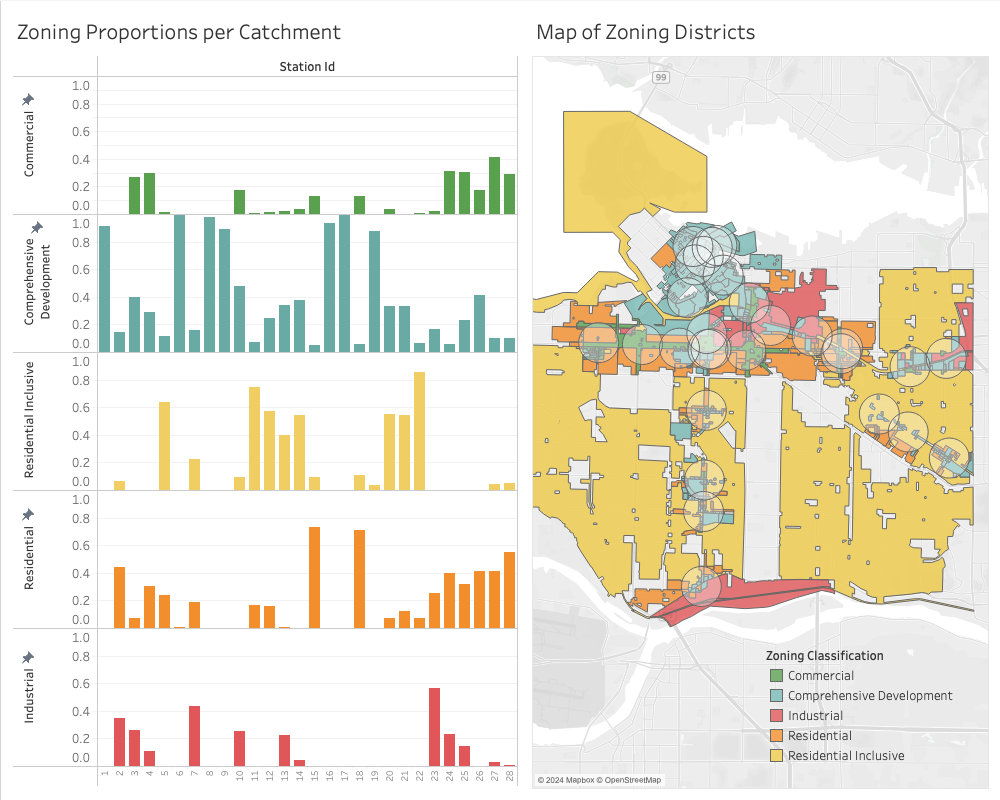

What the dashboard file says about the page in this screenshot:
{"tool":"tableau","page":{"name":"demand/zoning","canvas":[1000,800],"ordinal":8},"visuals":[{"type":"worksheet","title":"zoning/bar","mark":"Automatic","rows":["commercial","comprehensive_development","residential_inclusive","residential","industrial"],"cols":["station_id"],"box":[8,8,519,784]},{"type":"worksheet","title":"zoning/map","mark":"Automatic","box":[527,8,465,784]},{"type":"legend","title":"zoning/map","param":"[federated.09er66110hhkaf1e3lmk41i3ufzg].[none:zoning_classification:nk]","box":[765,646,191,138]}]}

Visuals, with their boxes in screenshot pixels (x1, y1, x2, y2), scaled from the page's 1000x800 canvas onto the 1000x800 screenshot:
"zoning/bar" worksheet: 8 8 527 792
"zoning/map" worksheet: 527 8 992 792
"zoning/map" legend: 765 646 956 784
